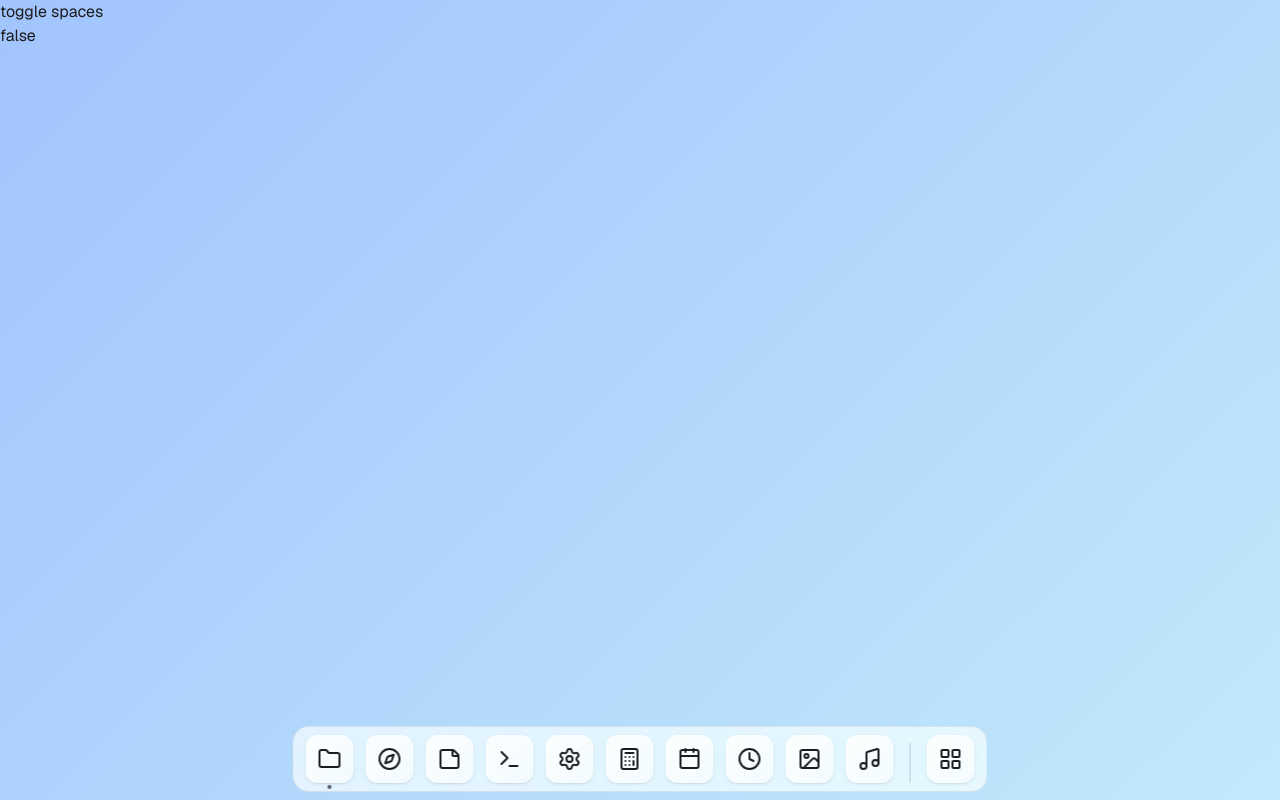
SpacesView › closes when the close button is clicked
Click the button with test id "dock-mission-control" at coordinates (950, 759), box top-left (926, 735), bottom-right (974, 783)
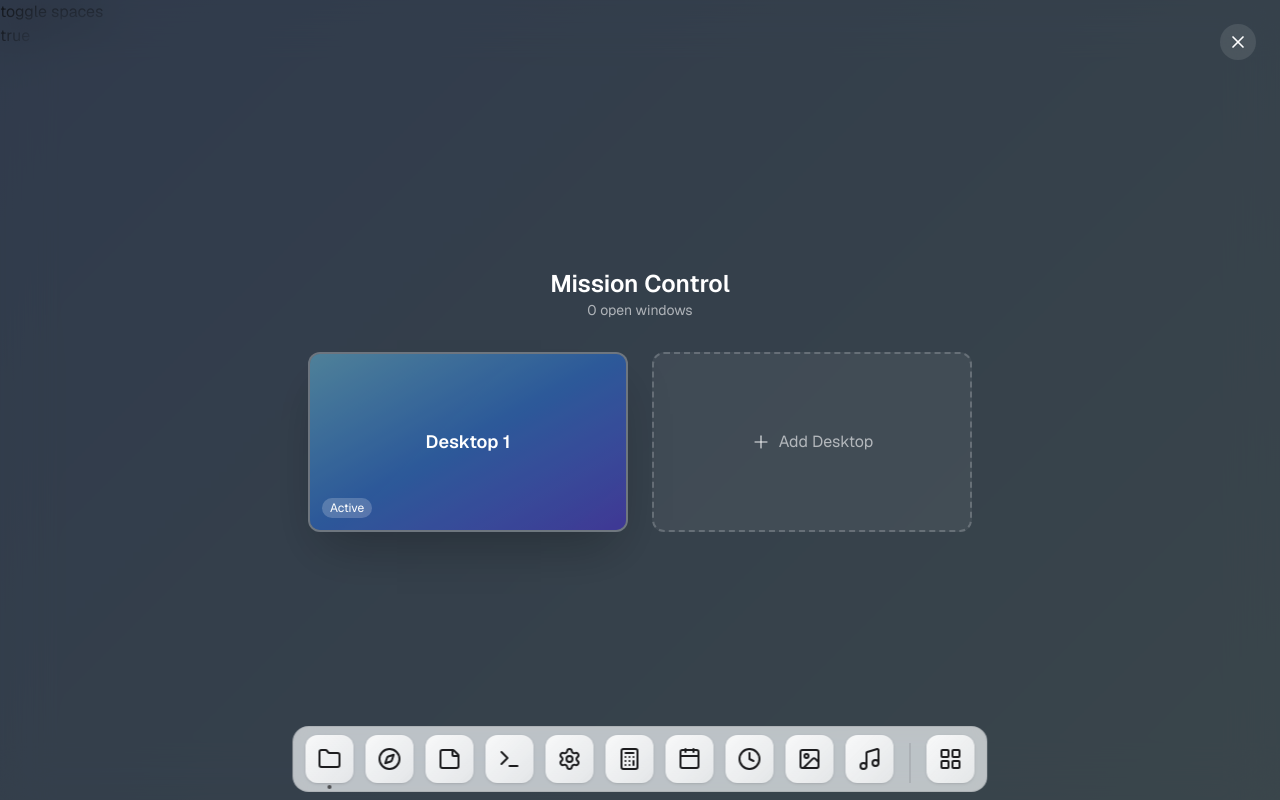
Check: the element with test id "spaces-view" is shown
Click the button with test id "spaces-close" at coordinates (1238, 42), box top-left (1220, 24), bottom-right (1256, 60)
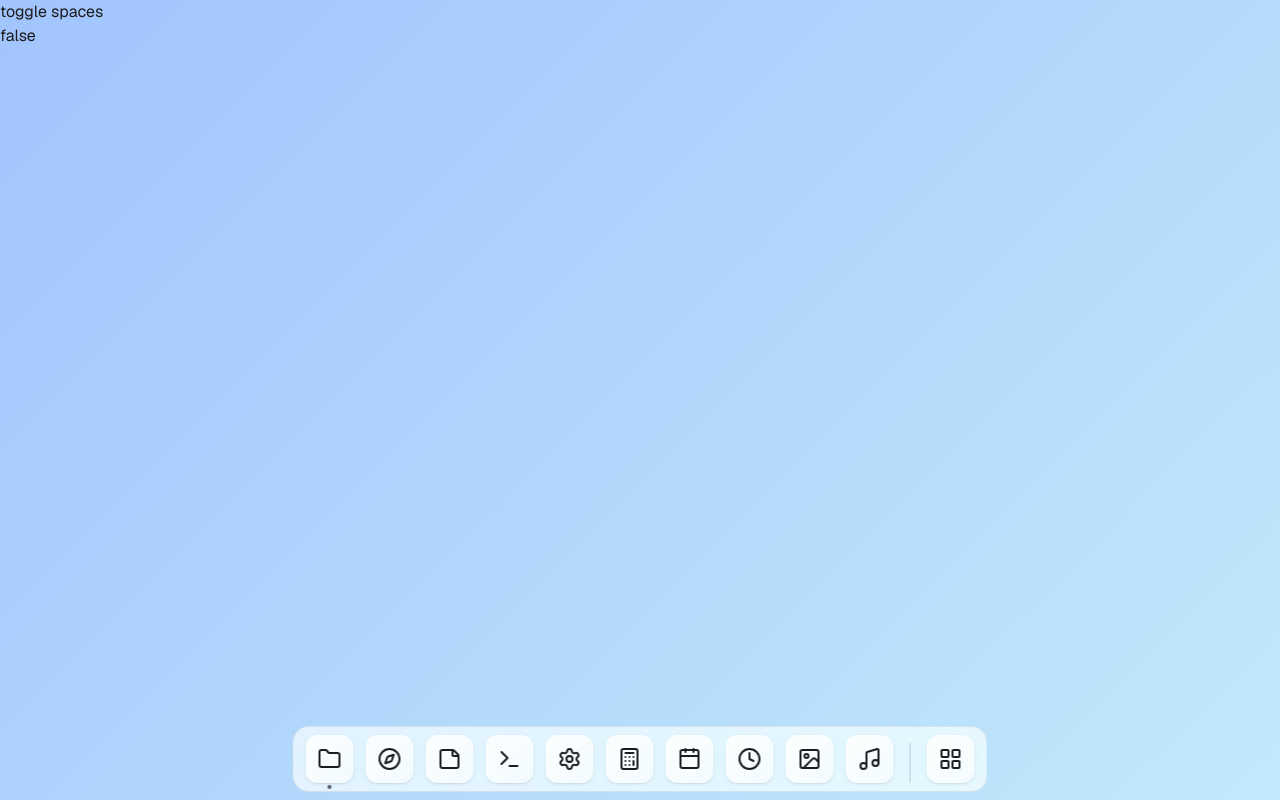
Check: the element with test id "spaces-view" is gone
Check: the text with test id "spaces-open" reads "false", box top-left (0, 25), bottom-right (36, 46)
